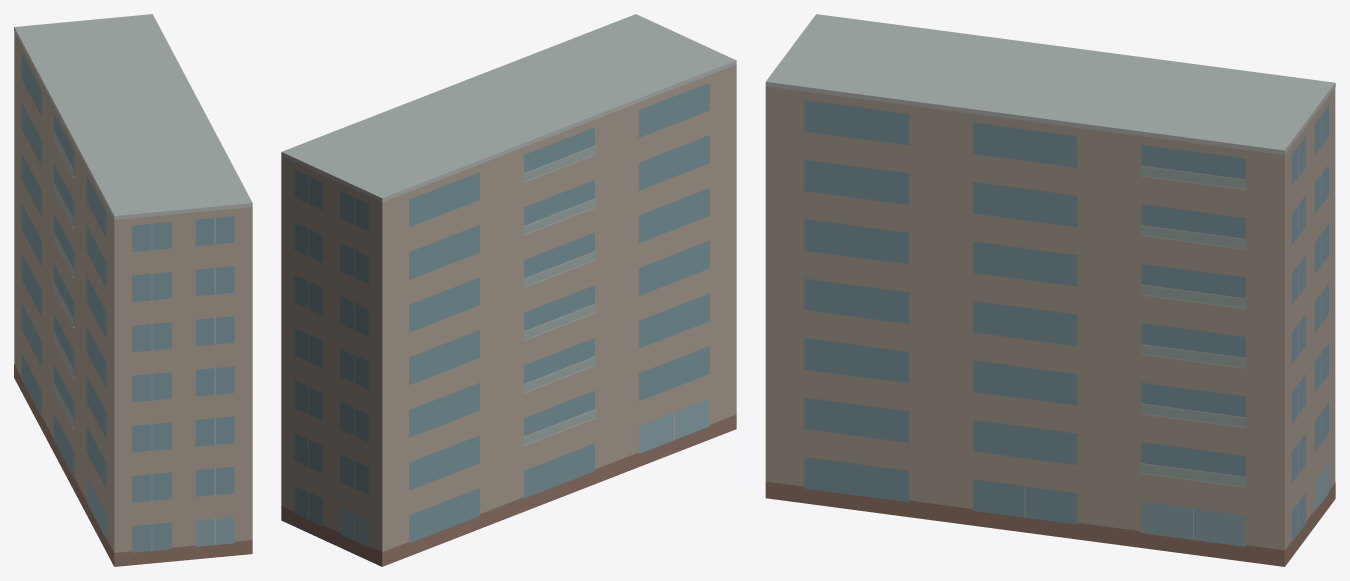
Rendered from survey-upis-32535682.glb.
3 renders of one model, left to right at view 1: azimuth 30°, elevation 25°; view 2: azimuth 150°, elevation 25°; view 3: azimuth 270°, elevation 25°, orthographic. The views are drawn at different scales.
Visible parts, largest first — view 1: survey-upis-32535682.tmp; view 2: survey-upis-32535682.tmp; view 3: survey-upis-32535682.tmp.
Part boxes in pixels (<box>): survey-upis-32535682.tmp: <box>14,14,252,566</box>; survey-upis-32535682.tmp: <box>281,14,736,566</box>; survey-upis-32535682.tmp: <box>765,14,1335,566</box>.
Size of the model in its own units: 15.55 by 22.1 by 27.42.
